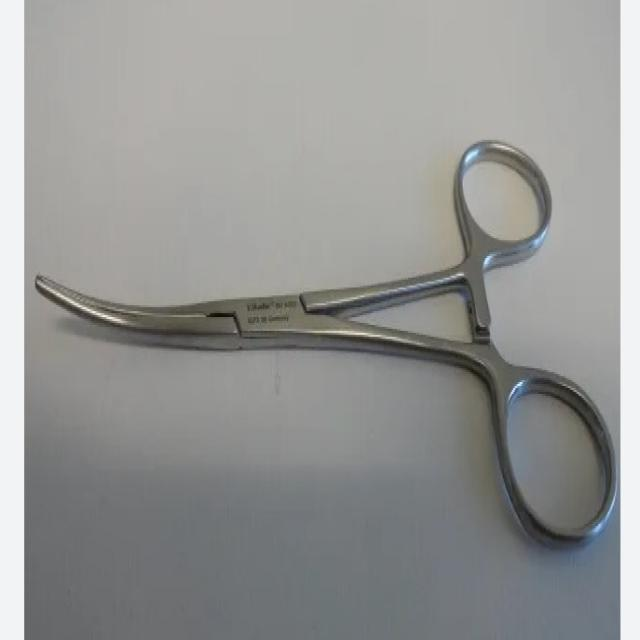Doyel Instestinal Forceps: (31, 130, 618, 552)
